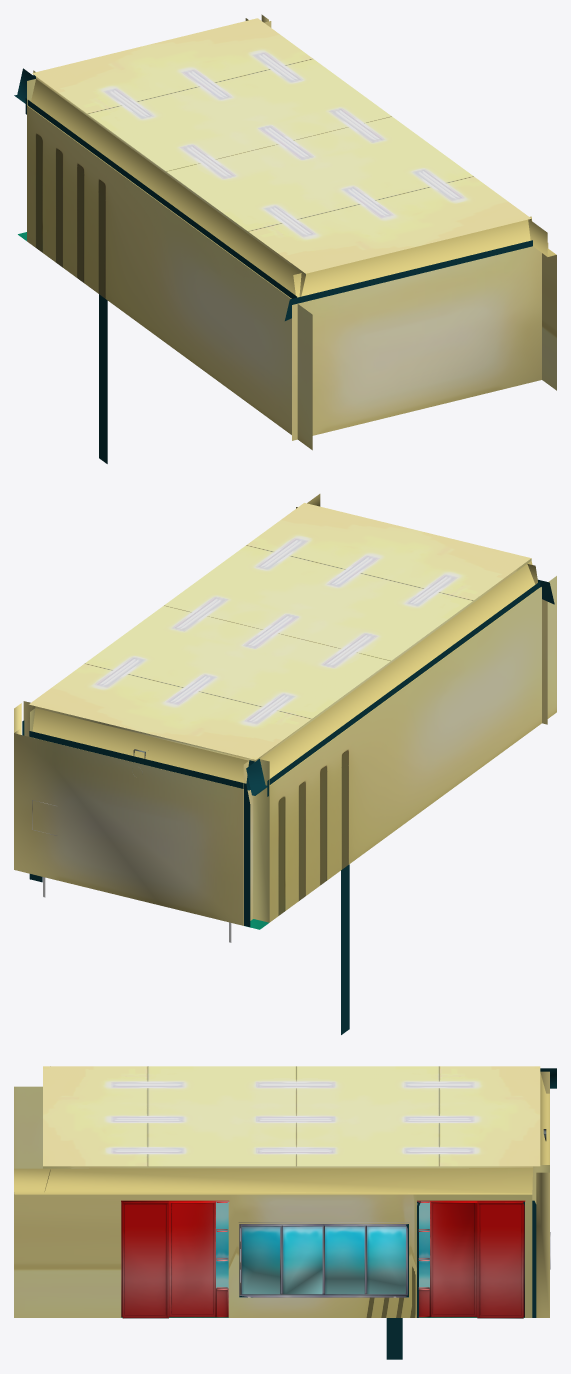
The model's file is classroom1.fbx.
The picture shows the model from 3 angles, top to bottom: view 1: azimuth 30°, elevation 25°; view 2: azimuth 150°, elevation 25°; view 3: azimuth 270°, elevation 25°; orthographic projection. The views are drawn at different scales.
Visible parts, largest first — view 1: Class_mesh; view 2: Class_mesh; view 3: Class_mesh.
Boxes of the visible parts, <box> form: Class_mesh: <box>14,14,556,463</box>; Class_mesh: <box>14,494,556,1034</box>; Class_mesh: <box>14,1066,556,1359</box>.
Size of the model in its own units: 1078 by 1279 by 2119.
Materials: 14 (13 with a texture image).
